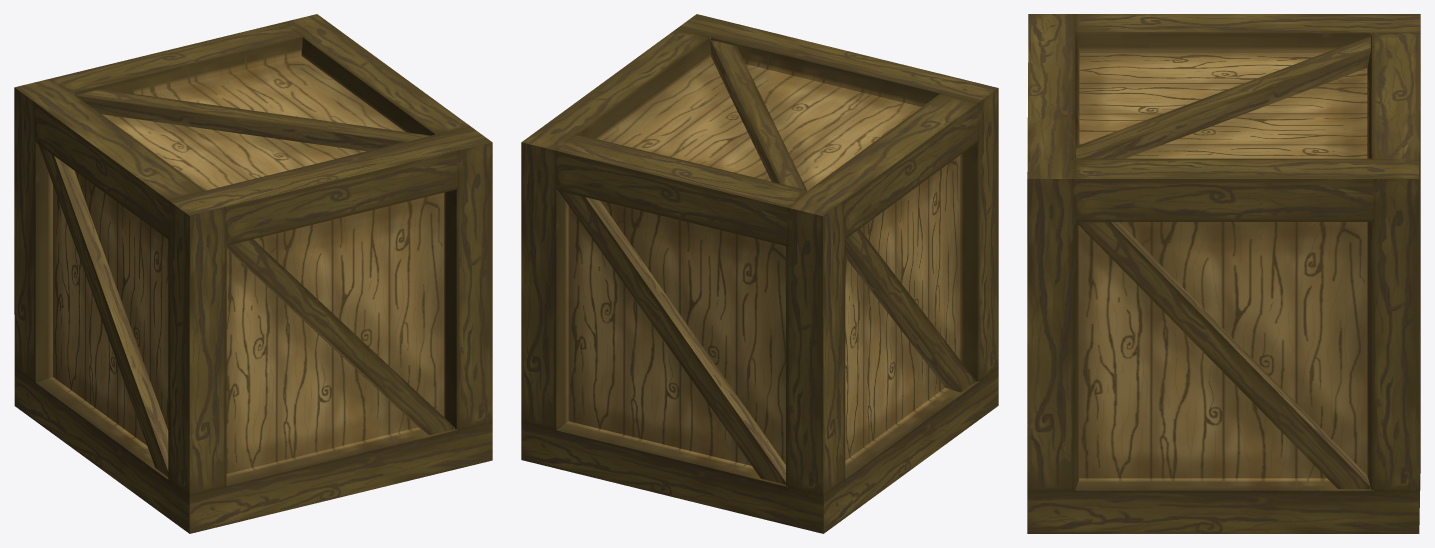
The model's file is skrzynka_01.fbx.
3 views of the same model, side by side, from view 1: azimuth 30°, elevation 25°; view 2: azimuth 150°, elevation 25°; view 3: azimuth 270°, elevation 25° (orthographic). The views are drawn at different scales.
Visible parts, largest first — view 1: Cube.001; view 2: Cube.001; view 3: Cube.001.
Part boxes in pixels (x1,y1,x2,y2): Cube.001: [14, 14, 492, 533]; Cube.001: [521, 14, 998, 533]; Cube.001: [1027, 14, 1420, 533].
Size of the model in its own units: 407 by 410 by 410.
